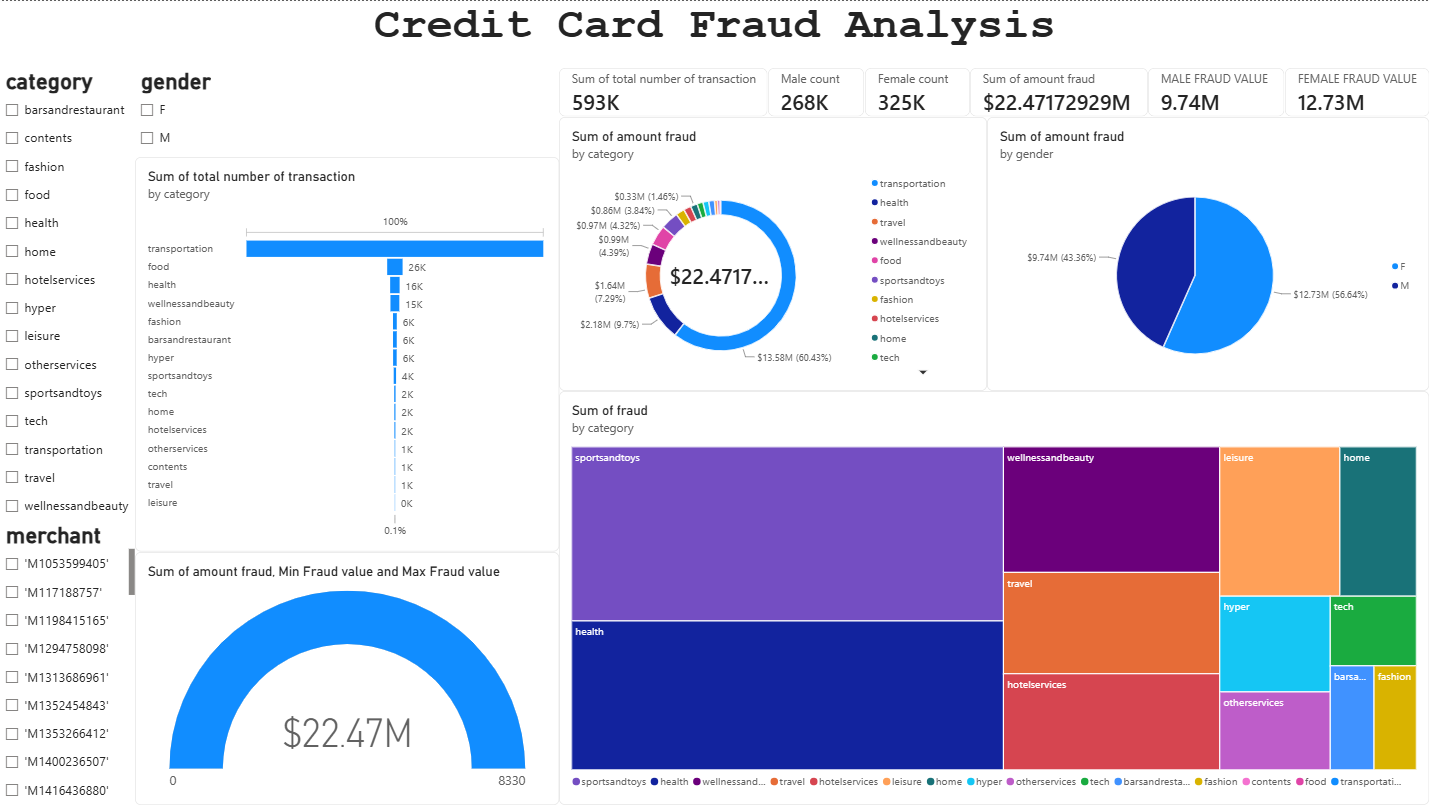

Layout of this report page (visuals, bound fields, positions):
{"tool":"powerbi","page":{"name":"Page 1","canvas":[1920,1080],"ordinal":0},"visuals":[{"type":"cardVisual","fields":{"Data":["Sum(Fraud Table.total number of transaction )"]},"box":[751.4,90.5,280.1,65.7],"z":0},{"type":"cardVisual","fields":{"Data":["Fraud Table.Male count"]},"box":[1031.5,90.5,129.8,65.7],"z":1000},{"type":"cardVisual","fields":{"Data":["Fraud Table.Female count"]},"box":[1161.3,90.5,141.5,65.7],"z":2000},{"type":"cardVisual","fields":{"Data":["Sum(Fraud Table.amount)"]},"box":[1302.9,90.5,239.3,65.7],"z":3000},{"type":"cardVisual","fields":{"Data":["Fraud Table.MALE FRAUD VALUE"]},"box":[1542.1,90.5,183.8,65.7],"z":4000},{"type":"cardVisual","fields":{"Data":["Fraud Table.FEMALE FRAUD VALUE"]},"box":[1726,90.5,194,65.7],"z":5000},{"type":"donutChart","fields":{"Category":["Fraud Table.category"],"Y":["Sum(Fraud Table.amount fraud)"]},"box":[751.4,156.1,574.8,367.7],"z":6000},{"type":"pieChart","fields":{"Category":["Fraud Table.gender"],"Y":["Sum(Fraud Table.amount fraud)"]},"box":[1326.2,156.1,593.8,367.7],"z":6002},{"type":"treemap","fields":{"Group":["Fraud Table.category"],"Values":["Sum(Fraud Table.fraud)"]},"box":[751.4,523.8,1168.6,555.9],"z":6003},{"type":"textbox","box":[0,0,1920,90.5],"z":6004},{"type":"slicer","fields":{"Values":["Fraud Table.category"]},"box":[0,90.5,180.9,611.3],"z":6005},{"type":"funnel","fields":{"Category":["Fraud Table.category"],"Y":["Sum(Fraud Table.total number of transaction )"]},"box":[180.9,210.1,570.5,529.6],"z":6006},{"type":"slicer","fields":{"Values":["Fraud Table.gender"]},"box":[180.9,90.5,570.5,119.6],"z":6007},{"type":"slicer","fields":{"Values":["Fraud Table.merchant"]},"box":[0,700.3,180.9,379.3],"z":6008},{"type":"gauge","fields":{"MaxValue":["Fraud Table.Max Fraud value"],"MinValue":["Fraud Table.Min Fraud value"],"Y":["Sum(Fraud Table.amount fraud)"]},"box":[180.9,739.7,570.5,339.9],"z":6009}]}

Visuals, with their boxes in screenshot pixels (x1, y1, x2, y2), scaled from the page's 1920x1080 canvas onto the 1429x805 screenshot:
cardVisual - Sum(Fraud Table.total number of transaction ): 559, 67, 768, 116
cardVisual - Fraud Table.Male count: 768, 67, 864, 116
cardVisual - Fraud Table.Female count: 864, 67, 970, 116
cardVisual - Sum(Fraud Table.amount): 970, 67, 1148, 116
cardVisual - Fraud Table.MALE FRAUD VALUE: 1148, 67, 1285, 116
cardVisual - Fraud Table.FEMALE FRAUD VALUE: 1285, 67, 1428, 116
donutChart - Fraud Table.category x Sum(Fraud Table.amount fraud): 559, 116, 987, 390
pieChart - Fraud Table.gender x Sum(Fraud Table.amount fraud): 987, 116, 1428, 390
treemap - Fraud Table.category x Sum(Fraud Table.fraud): 559, 390, 1428, 804
textbox: 0, 0, 1428, 67
slicer - Fraud Table.category: 0, 67, 135, 523
funnel - Fraud Table.category x Sum(Fraud Table.total number of transaction ): 135, 157, 559, 551
slicer - Fraud Table.gender: 135, 67, 559, 157
slicer - Fraud Table.merchant: 0, 522, 135, 804
gauge - Fraud Table.Max Fraud value x Fraud Table.Min Fraud value: 135, 551, 559, 804
